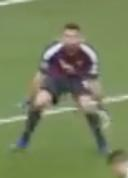goalkeeper: (10, 9, 128, 157)
